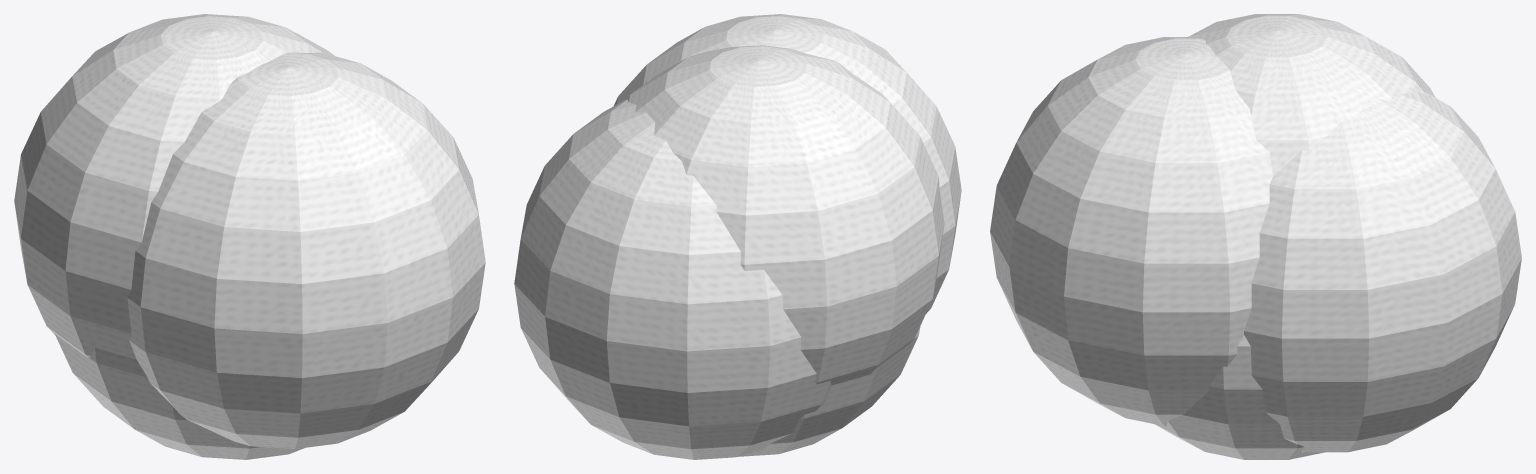
File: drek.gltf
3 views of the same model, side by side, from view 1: azimuth 30°, elevation 25°; view 2: azimuth 150°, elevation 25°; view 3: azimuth 270°, elevation 25° (orthographic). The views are drawn at different scales.
Parts seen in each view (by area): view 1: Sphere.001; view 2: Sphere.001; view 3: Sphere.001.
Part boxes in pixels (x1,y1,x2,y2): Sphere.001: (14,14,485,459); Sphere.001: (514,14,961,459); Sphere.001: (990,14,1521,459).
Bounding box in the file's own units: 1.04 × 1.09 × 1.3.
Materials: 1 (1 with a texture image).
